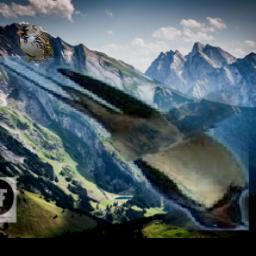Sparrow: (18, 25, 55, 64)
Swallow: (0, 56, 249, 230)
